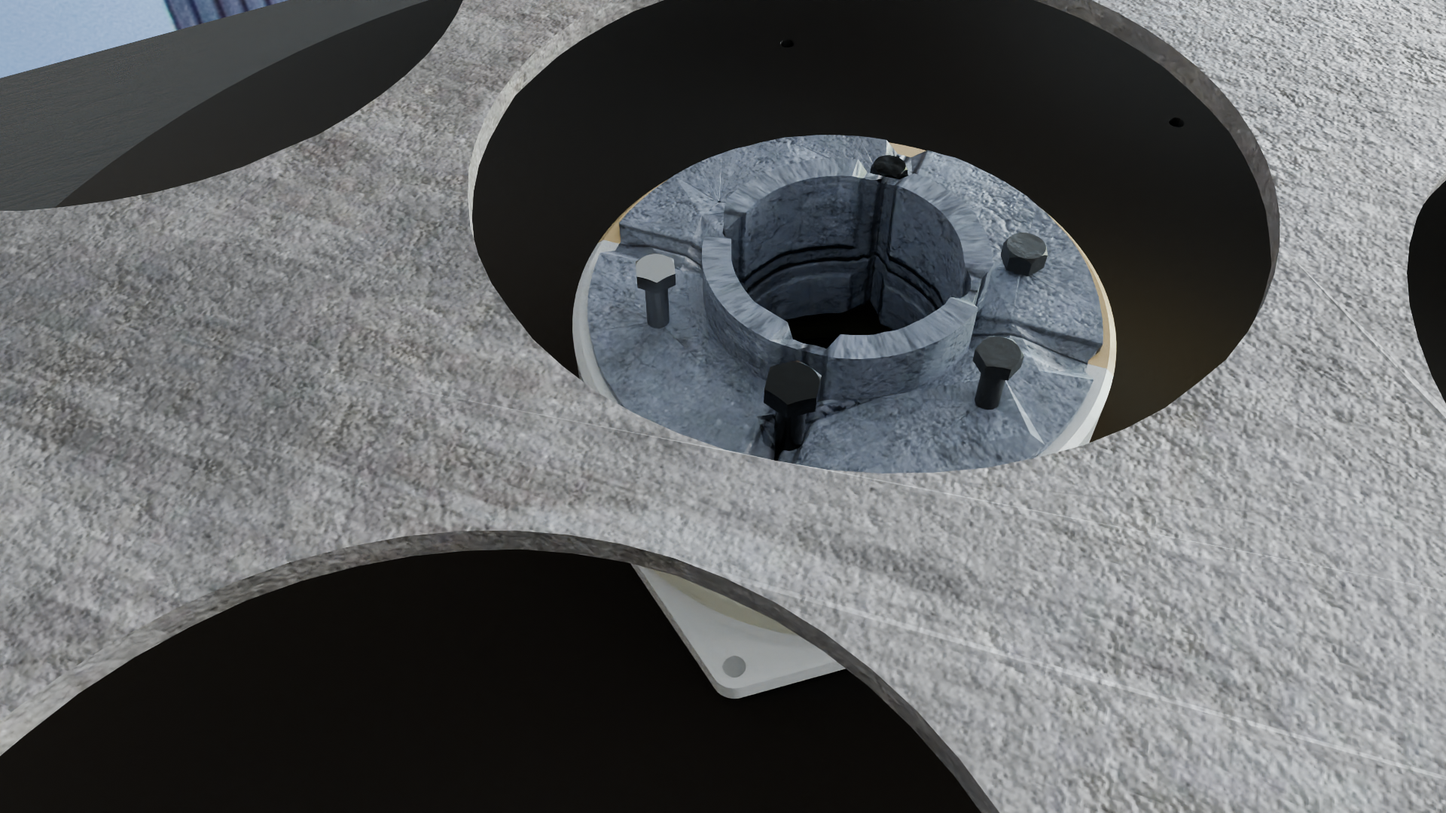bolt: (764, 361, 822, 405), (975, 336, 1024, 370), (1004, 233, 1048, 264), (636, 253, 676, 282), (871, 155, 908, 179)
